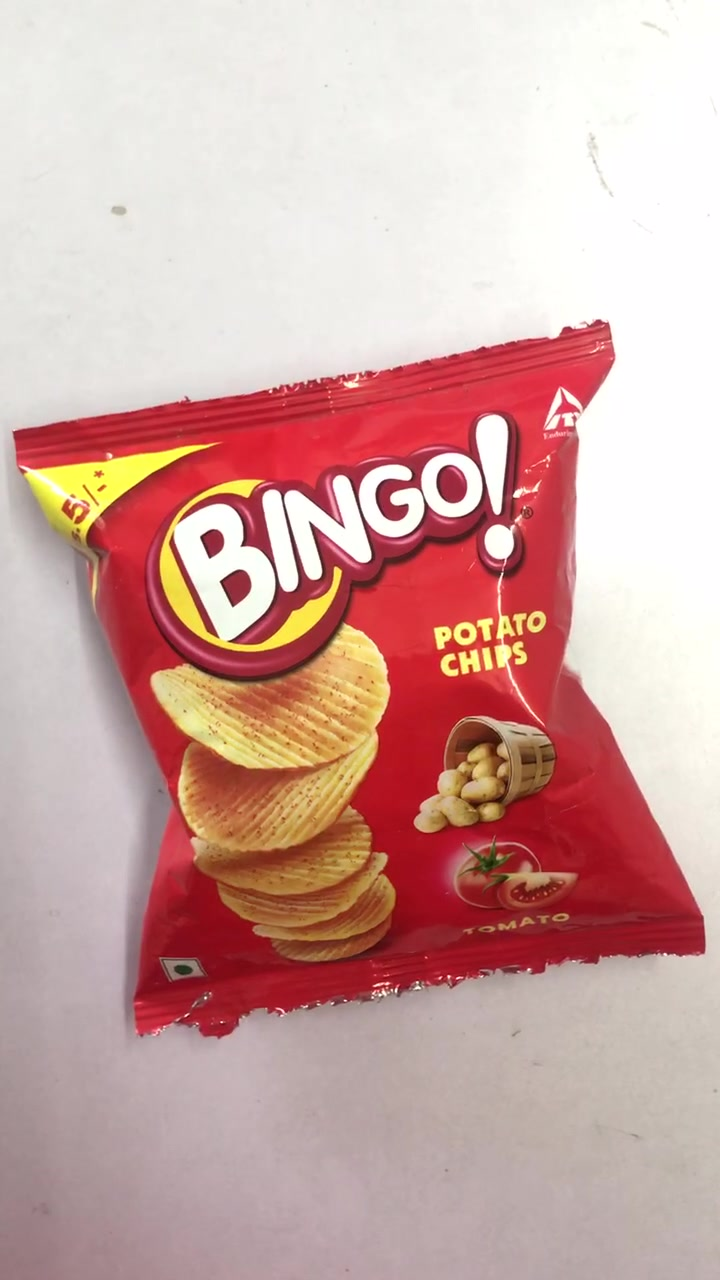Bingo: (31, 321, 696, 1006)
